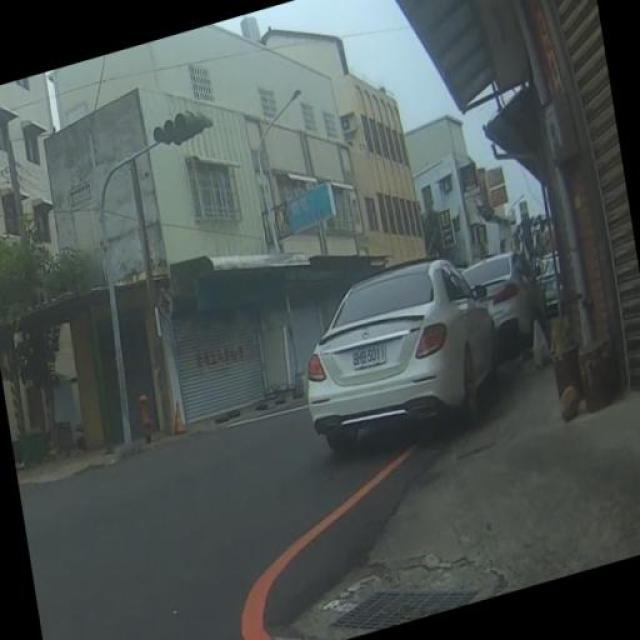illegalparking: (296, 243, 552, 480)
